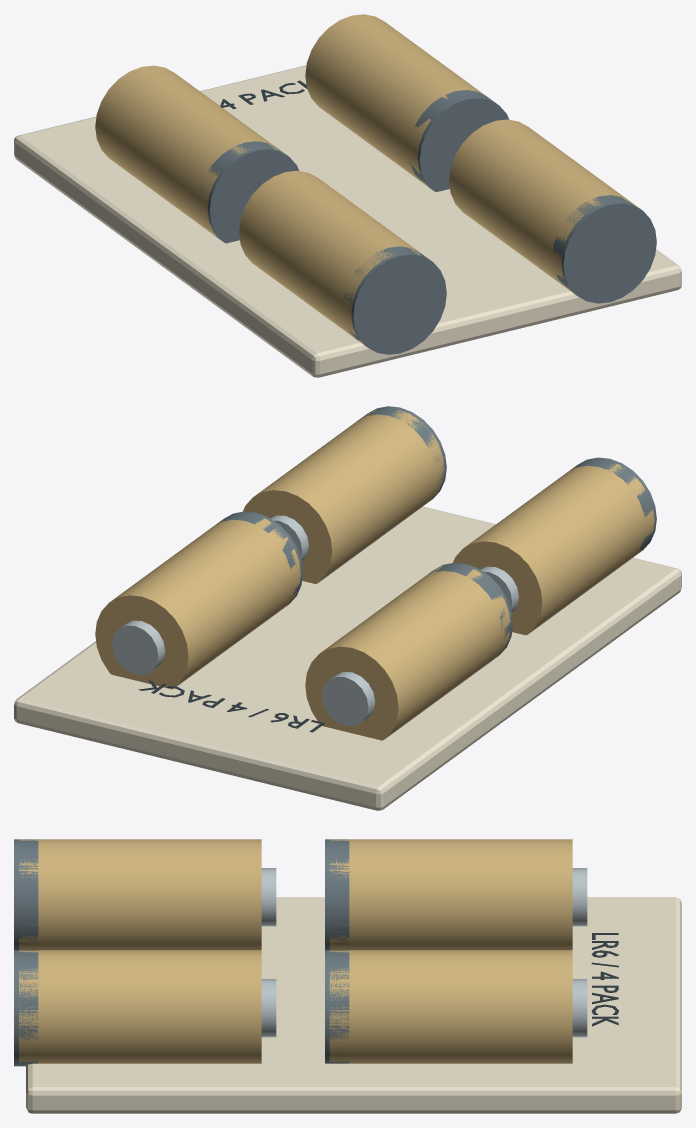
File: loot_aa_cells.glb
3 renders of one model, top to bottom at view 1: azimuth 30°, elevation 25°; view 2: azimuth 150°, elevation 25°; view 3: azimuth 270°, elevation 25°, orthographic. The views are drawn at different scales.
Parts seen in each view (by area): view 1: loot_aa_cells; view 2: loot_aa_cells; view 3: loot_aa_cells.
Boxes of the visible parts, bbox=[...] form: loot_aa_cells: bbox=[14, 14, 681, 377]; loot_aa_cells: bbox=[14, 406, 681, 810]; loot_aa_cells: bbox=[14, 839, 681, 1113].
Bounding box in the file's own units: 0.095 × 0.027 × 0.1375.
